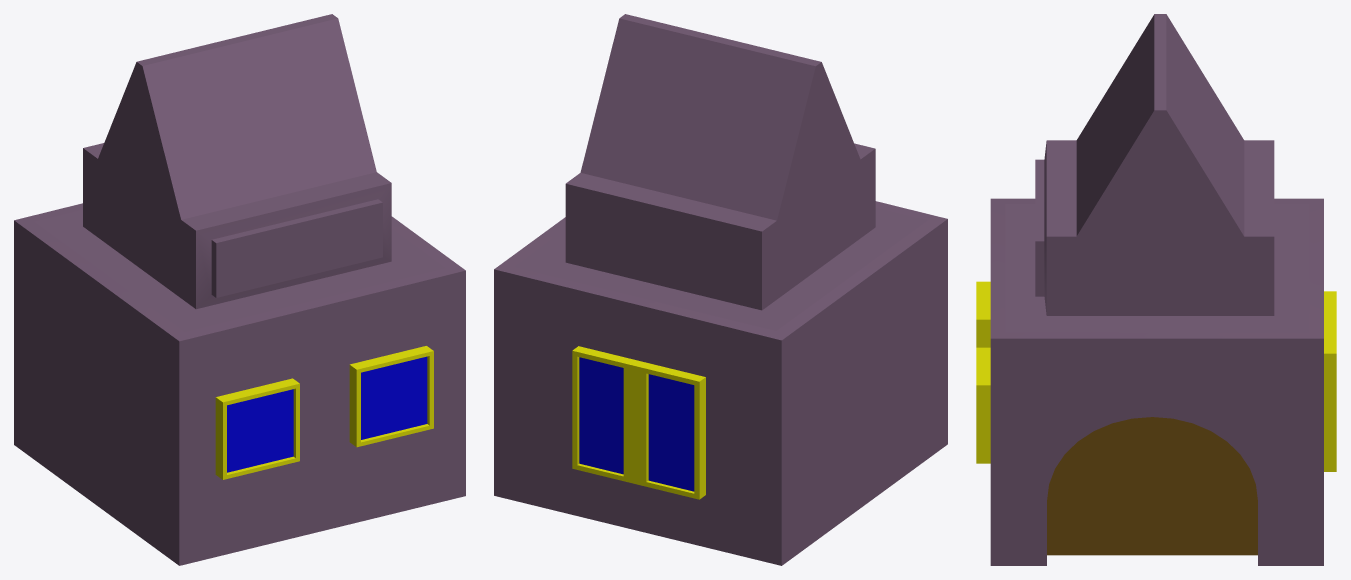
The picture shows the model from 3 angles, left to right: view 1: azimuth 30°, elevation 25°; view 2: azimuth 150°, elevation 25°; view 3: azimuth 270°, elevation 25°; orthographic projection.
Parts seen in each view (by area): view 1: polySurface55, polySurface56, polySurface57, polySurface58; view 2: polySurface55, polySurface56, pCube53; view 3: polySurface55, polySurface56, pCube53, polySurface58, polySurface57.
Boxes of the visible parts, x1=… form: polySurface55: x1=14, y1=203, x2=465, y2=565; polySurface56: x1=83, y1=14, x2=391, y2=309; polySurface57: x1=215, y1=378, x2=299, y2=479; polySurface58: x1=349, y1=346, x2=433, y2=447; polySurface55: x1=494, y1=201, x2=947, y2=565; polySurface56: x1=565, y1=14, x2=875, y2=310; pCube53: x1=572, y1=346, x2=705, y2=499; polySurface55: x1=990, y1=198, x2=1323, y2=565; polySurface56: x1=1035, y1=14, x2=1274, y2=315; pCube53: x1=1324, y1=291, x2=1336, y2=471; polySurface58: x1=976, y1=347, x2=990, y2=463; polySurface57: x1=976, y1=281, x2=990, y2=347.
Bounding box in the file's own units: 2189 × 3136 × 2368.
